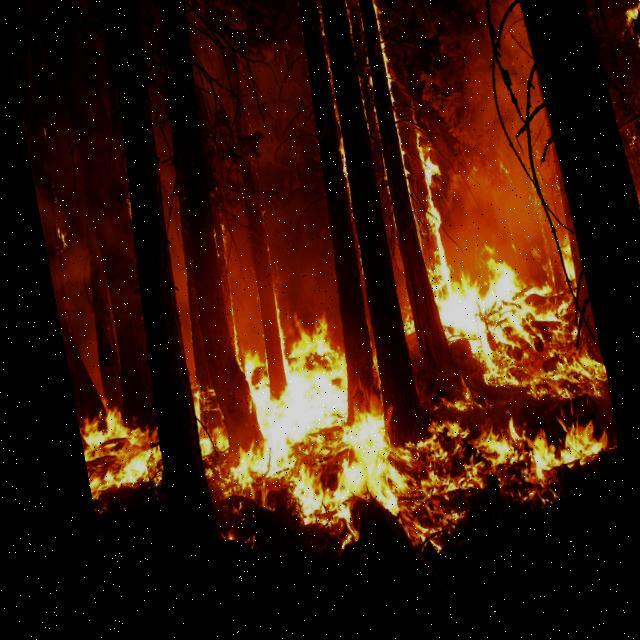Fire: (29, 123, 639, 577)
